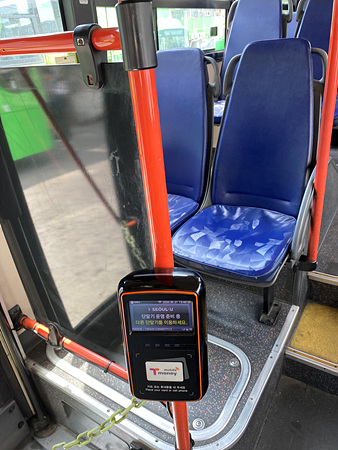terminal: (119, 277, 204, 403)
